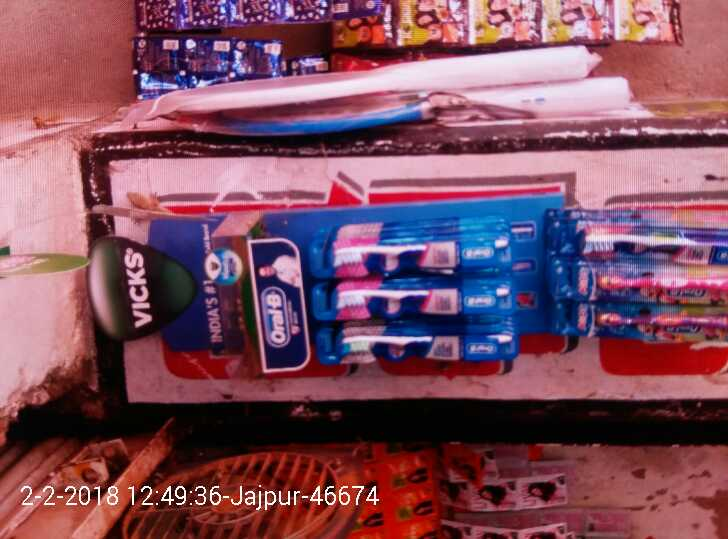oralb: (307, 322, 517, 371), (306, 233, 499, 275), (310, 281, 493, 319)
